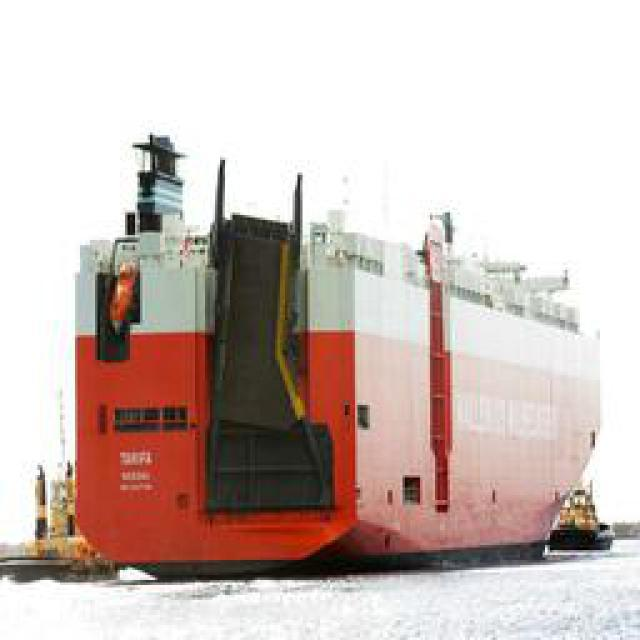Ship: (63, 108, 628, 588), (535, 465, 622, 560)
